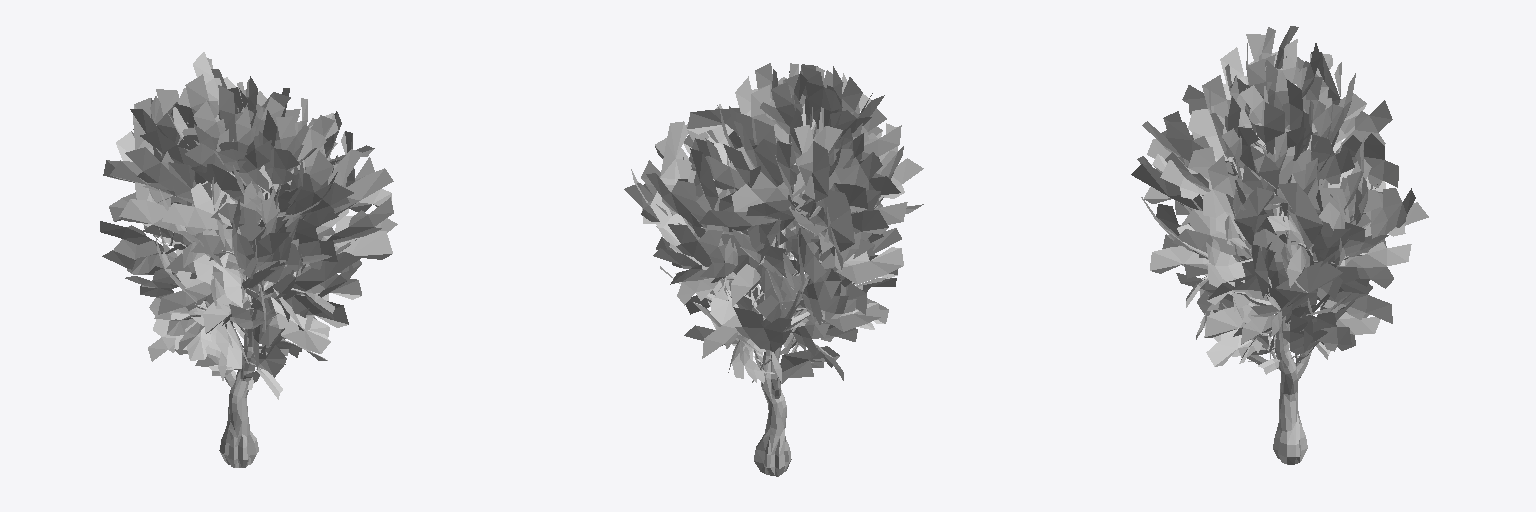
File: Aspen Tree.obj
3 renders of one model, left to right at view 1: azimuth 30°, elevation 25°; view 2: azimuth 150°, elevation 25°; view 3: azimuth 270°, elevation 25°, orthographic.
Parts seen in each view (by area): view 1: SM_Aspen_Tree_01; view 2: SM_Aspen_Tree_01; view 3: SM_Aspen_Tree_01.
Part boxes in pixels (bbox=[...]): SM_Aspen_Tree_01: bbox=[100, 52, 397, 467]; SM_Aspen_Tree_01: bbox=[624, 63, 923, 476]; SM_Aspen_Tree_01: bbox=[1131, 26, 1428, 464].
Size of the model in its own units: 1127 by 1713 by 1115.